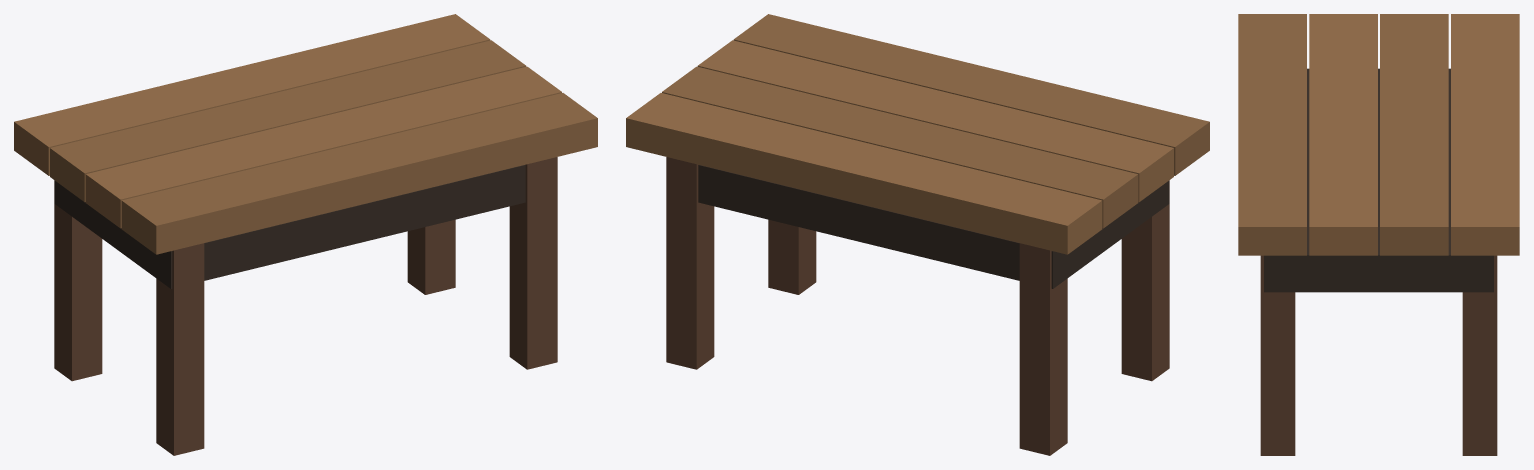
Rendered from Decor_Table.glb.
3 renders of one model, left to right at view 1: azimuth 30°, elevation 25°; view 2: azimuth 150°, elevation 25°; view 3: azimuth 270°, elevation 25°, orthographic.
Parts seen in each view (by area): view 1: _MeshInstance3D_4317, _MeshInstance3D_4316, _MeshInstance3D_4314, _MeshInstance3D_4315, _MeshInstance3D_4313, _MeshInstance3D_4310, _MeshInstance3D_4312, _MeshInstance3D_4309, _MeshInstance3D_4311; view 2: _MeshInstance3D_4314, _MeshInstance3D_4315, _MeshInstance3D_4317, _MeshInstance3D_4316, _MeshInstance3D_4313, _MeshInstance3D_4309, _MeshInstance3D_4311, _MeshInstance3D_4310, _MeshInstance3D_4312; view 3: _MeshInstance3D_4314, _MeshInstance3D_4315, _MeshInstance3D_4316, _MeshInstance3D_4317, _MeshInstance3D_4313, _MeshInstance3D_4311, _MeshInstance3D_4312.
Boxes of the visible parts, x1,y1,x2,y2 form: _MeshInstance3D_4317: (121,93,597,254); _MeshInstance3D_4316: (85,66,561,228); _MeshInstance3D_4314: (14,14,490,175); _MeshInstance3D_4315: (50,40,526,202); _MeshInstance3D_4313: (54,165,525,288); _MeshInstance3D_4310: (156,243,204,455); _MeshInstance3D_4312: (509,157,557,369); _MeshInstance3D_4309: (54,180,102,381); _MeshInstance3D_4311: (407,219,455,294); _MeshInstance3D_4314: (626,93,1102,254); _MeshInstance3D_4315: (662,66,1138,228); _MeshInstance3D_4317: (733,14,1209,175); _MeshInstance3D_4316: (697,40,1173,202); _MeshInstance3D_4313: (698,165,1169,288); _MeshInstance3D_4309: (1019,243,1067,455); _MeshInstance3D_4311: (666,157,714,369); _MeshInstance3D_4310: (1121,180,1169,381); _MeshInstance3D_4312: (768,219,816,294); _MeshInstance3D_4314: (1451,14,1519,255); _MeshInstance3D_4315: (1380,14,1448,255); _MeshInstance3D_4316: (1309,14,1377,255); _MeshInstance3D_4317: (1238,14,1306,255); _MeshInstance3D_4313: (1264,68,1493,292); _MeshInstance3D_4311: (1462,255,1497,455); _MeshInstance3D_4312: (1260,255,1295,455).
Bounding box in the file's own units: 1.6 × 0.85 × 0.893.
